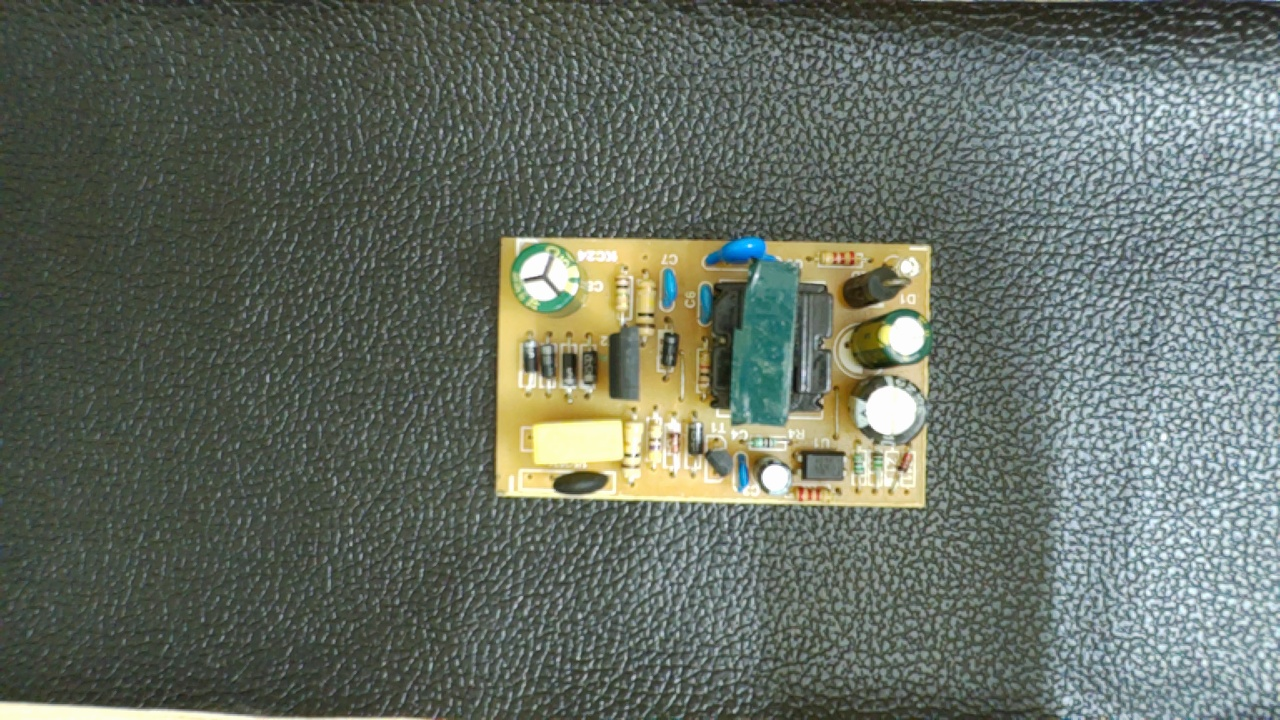fuse: (546, 467, 617, 498)
hv_capacitor: (504, 237, 588, 318)
mov: (698, 239, 800, 267)
optocoupler: (791, 441, 849, 485)
